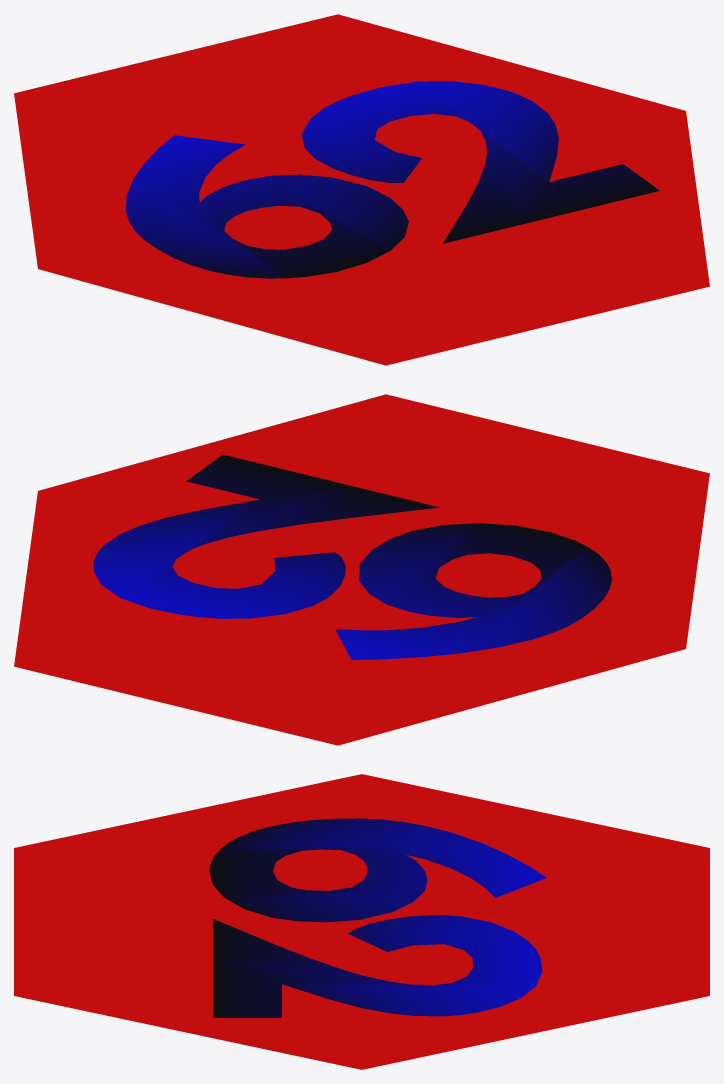
The model's file is SM_Number_62.fbx.
3 views of the same model, one above another, from view 1: azimuth 30°, elevation 25°; view 2: azimuth 150°, elevation 25°; view 3: azimuth 270°, elevation 25° (orthographic). The views are drawn at different scales.
Parts seen in each view (by area): view 1: FBX_OUT; view 2: FBX_OUT; view 3: FBX_OUT.
Boxes of the visible parts, <box> form: FBX_OUT: <box>14,14,709,365</box>; FBX_OUT: <box>14,394,709,745</box>; FBX_OUT: <box>14,774,709,1069</box>.
Size of the model in its own units: 50 by 0.2917 by 49.71.
